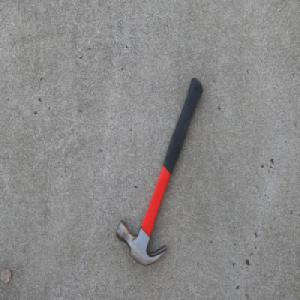Hammer: (115, 76, 203, 266)
